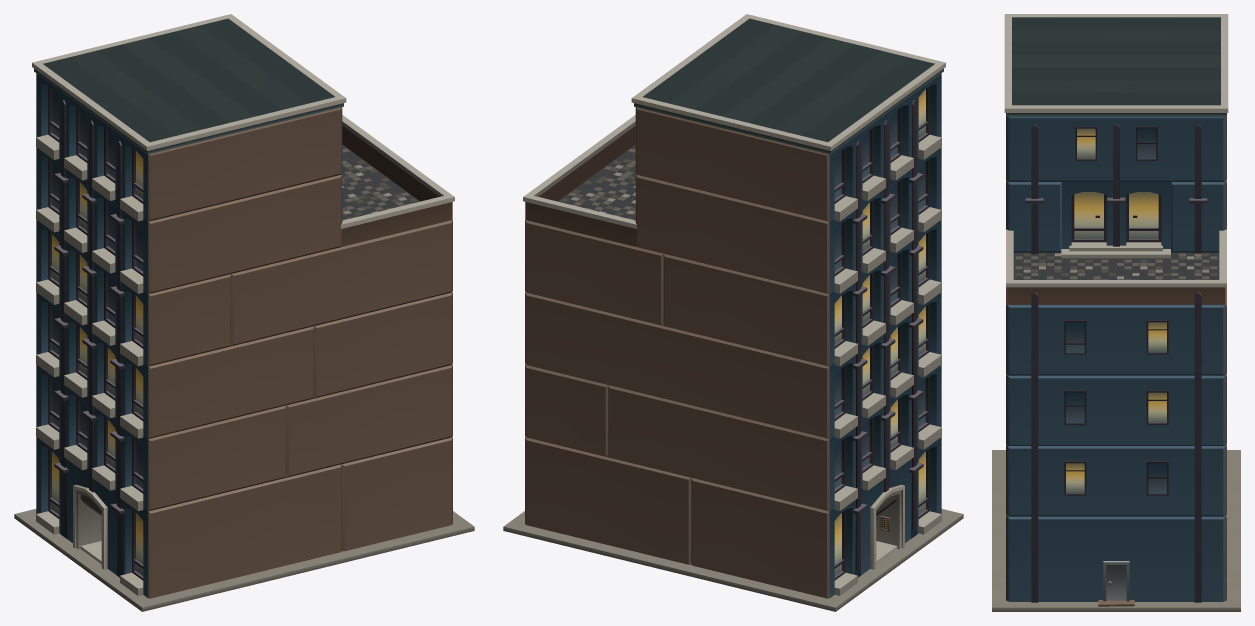
The model's file is Building_19B.fbx.
The picture shows the model from 3 angles, left to right: view 1: azimuth 30°, elevation 25°; view 2: azimuth 150°, elevation 25°; view 3: azimuth 270°, elevation 25°; orthographic projection. The views are drawn at different scales.
Parts seen in each view (by area): view 1: Building_19B, Window_Lights_19B; view 2: Building_19B, Window_Lights_19B; view 3: Building_19B, Window_Lights_19B.
Boxes of the visible parts, <box> form: Building_19B: <box>14,14,474,611</box>; Window_Lights_19B: <box>52,151,143,575</box>; Building_19B: <box>503,14,963,611</box>; Window_Lights_19B: <box>834,89,925,575</box>; Building_19B: <box>992,14,1240,611</box>; Window_Lights_19B: <box>1066,128,1166,493</box>.
Size of the model in its own units: 2400 by 3160 by 1600.
